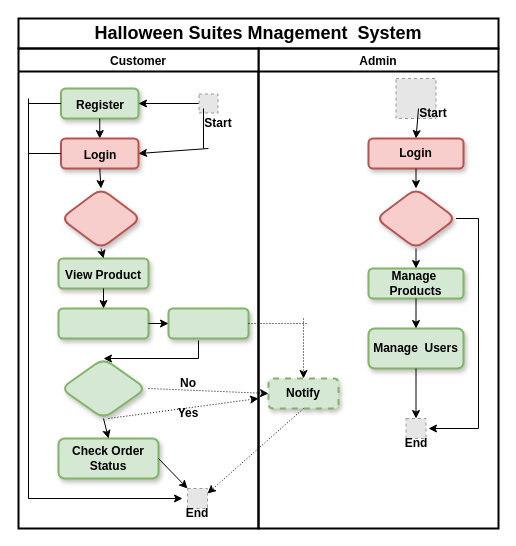
The diagram is 516 pixels wide and 546 high, and some of its shapes have lost their labels. Grey dashed boxes stand in for pictures. Each missing label, with the centre of its shape:
"Login Succesful" belongs at (416,219).
"Login Successful" belongs at (102,219).
"Make Order" belongs at (104,324).
"MakePayment" belongs at (209,324).
"Secure Executed" belongs at (104,389).
